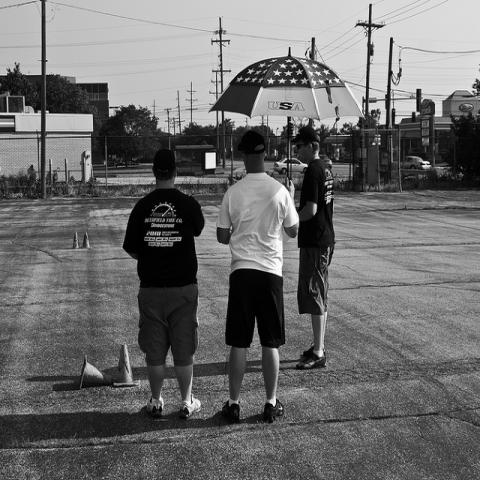car: (274, 158, 308, 174), (400, 155, 431, 170), (318, 154, 332, 169)
